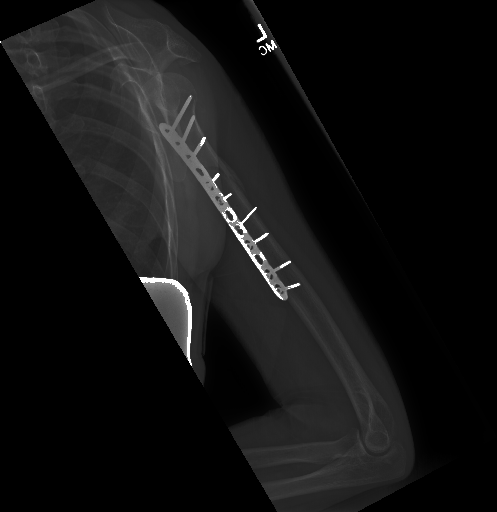implant: (156, 91, 302, 303)
